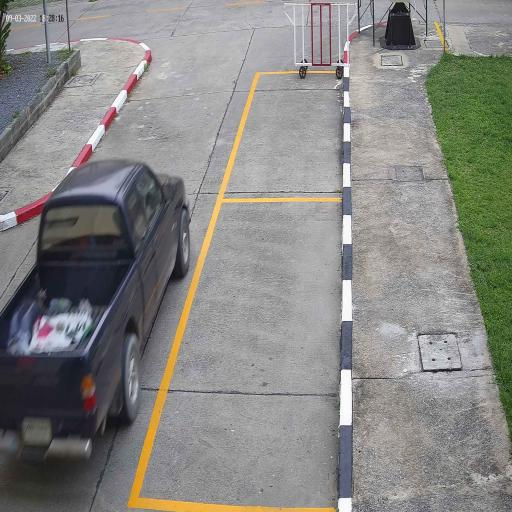car: (0, 157, 192, 467)
